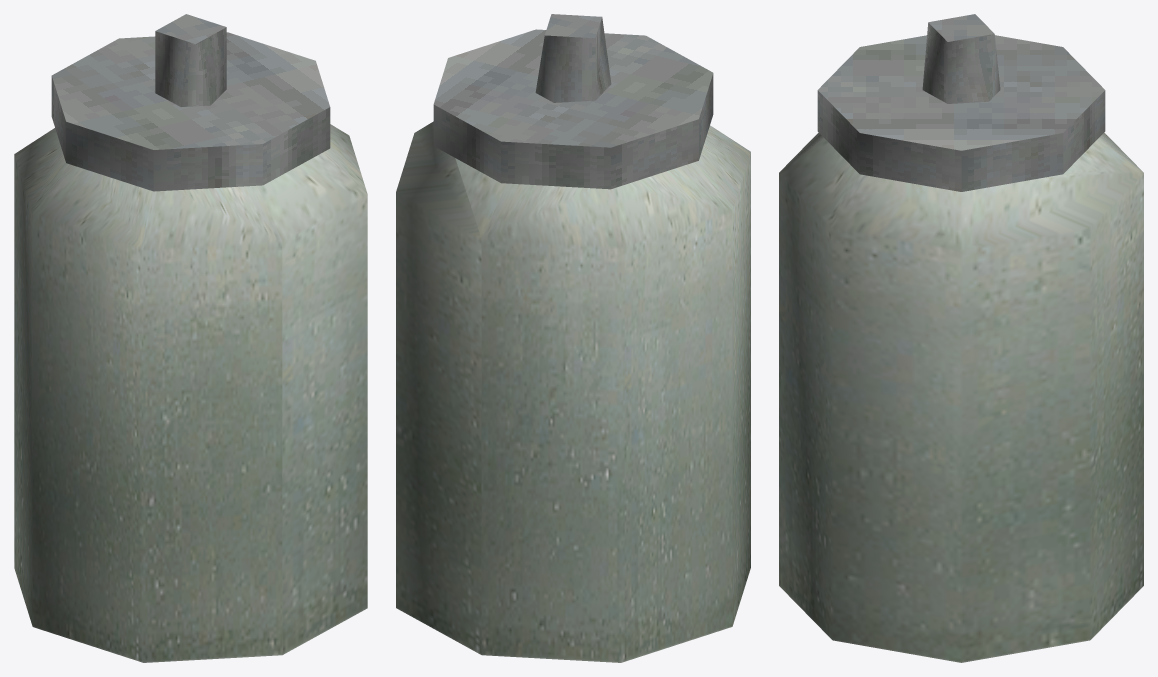
Rendered from edb_con_tato_jar_berries_s01_l1.fbx.
3 views of the same model, side by side, from view 1: azimuth 30°, elevation 25°; view 2: azimuth 150°, elevation 25°; view 3: azimuth 270°, elevation 25° (orthographic).
Parts seen in each view (by area): view 1: mesh_node; view 2: mesh_node; view 3: mesh_node.
Part boxes in pixels (bbox=[...]): mesh_node: bbox=[14, 14, 367, 662]; mesh_node: bbox=[396, 14, 750, 662]; mesh_node: bbox=[779, 14, 1143, 662].
Bounding box in the file's own units: 0.2 × 0.3375 × 0.2.
